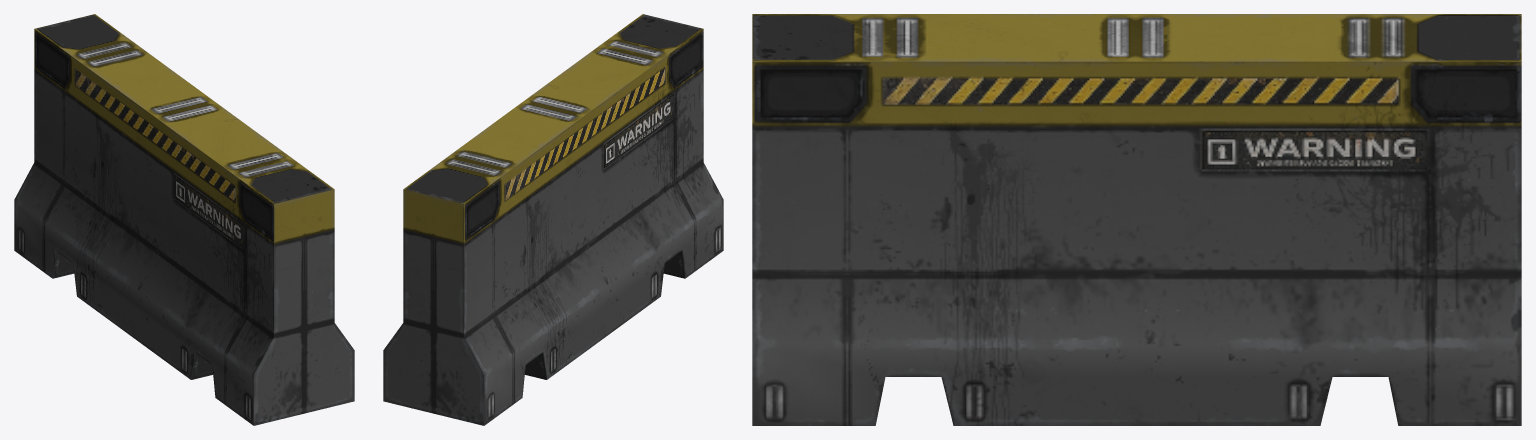
Rendered from CP_Traffic_Barrier_03.fbx.
3 views of the same model, side by side, from view 1: azimuth 30°, elevation 25°; view 2: azimuth 150°, elevation 25°; view 3: azimuth 270°, elevation 25° (orthographic). The views are drawn at different scales.
Parts seen in each view (by area): view 1: CP_Traffic_Barrier_03; view 2: CP_Traffic_Barrier_03; view 3: CP_Traffic_Barrier_03.
Boxes of the visible parts, x1,y1,x2,y2 form: CP_Traffic_Barrier_03: [14, 14, 354, 425]; CP_Traffic_Barrier_03: [383, 14, 723, 425]; CP_Traffic_Barrier_03: [752, 14, 1521, 425].
Size of the model in its own units: 48.63 by 100 by 200.
